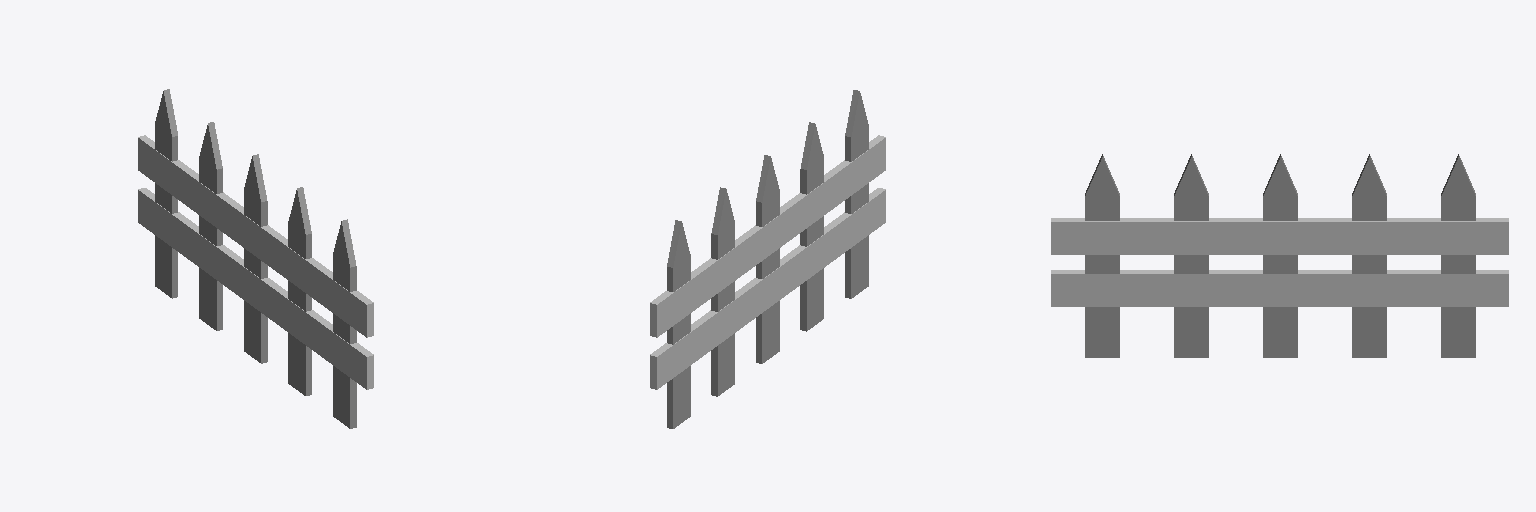
Rendered from cerca.obj.
3 renders of one model, left to right at view 1: azimuth 30°, elevation 25°; view 2: azimuth 150°, elevation 25°; view 3: azimuth 270°, elevation 25°, orthographic.
Parts seen in each view (by area): view 1: Plane, Cube; view 2: Plane, Cube; view 3: Plane, Cube.
Part boxes in pixels (bbox=[...]): Plane: bbox=[138, 135, 373, 389]; Cube: bbox=[155, 89, 356, 428]; Plane: bbox=[650, 135, 885, 389]; Cube: bbox=[667, 90, 868, 428]; Plane: bbox=[1051, 218, 1508, 306]; Cube: bbox=[1085, 154, 1475, 357].
Bounding box in the file's own units: 0.1 × 2.5 × 5.15.